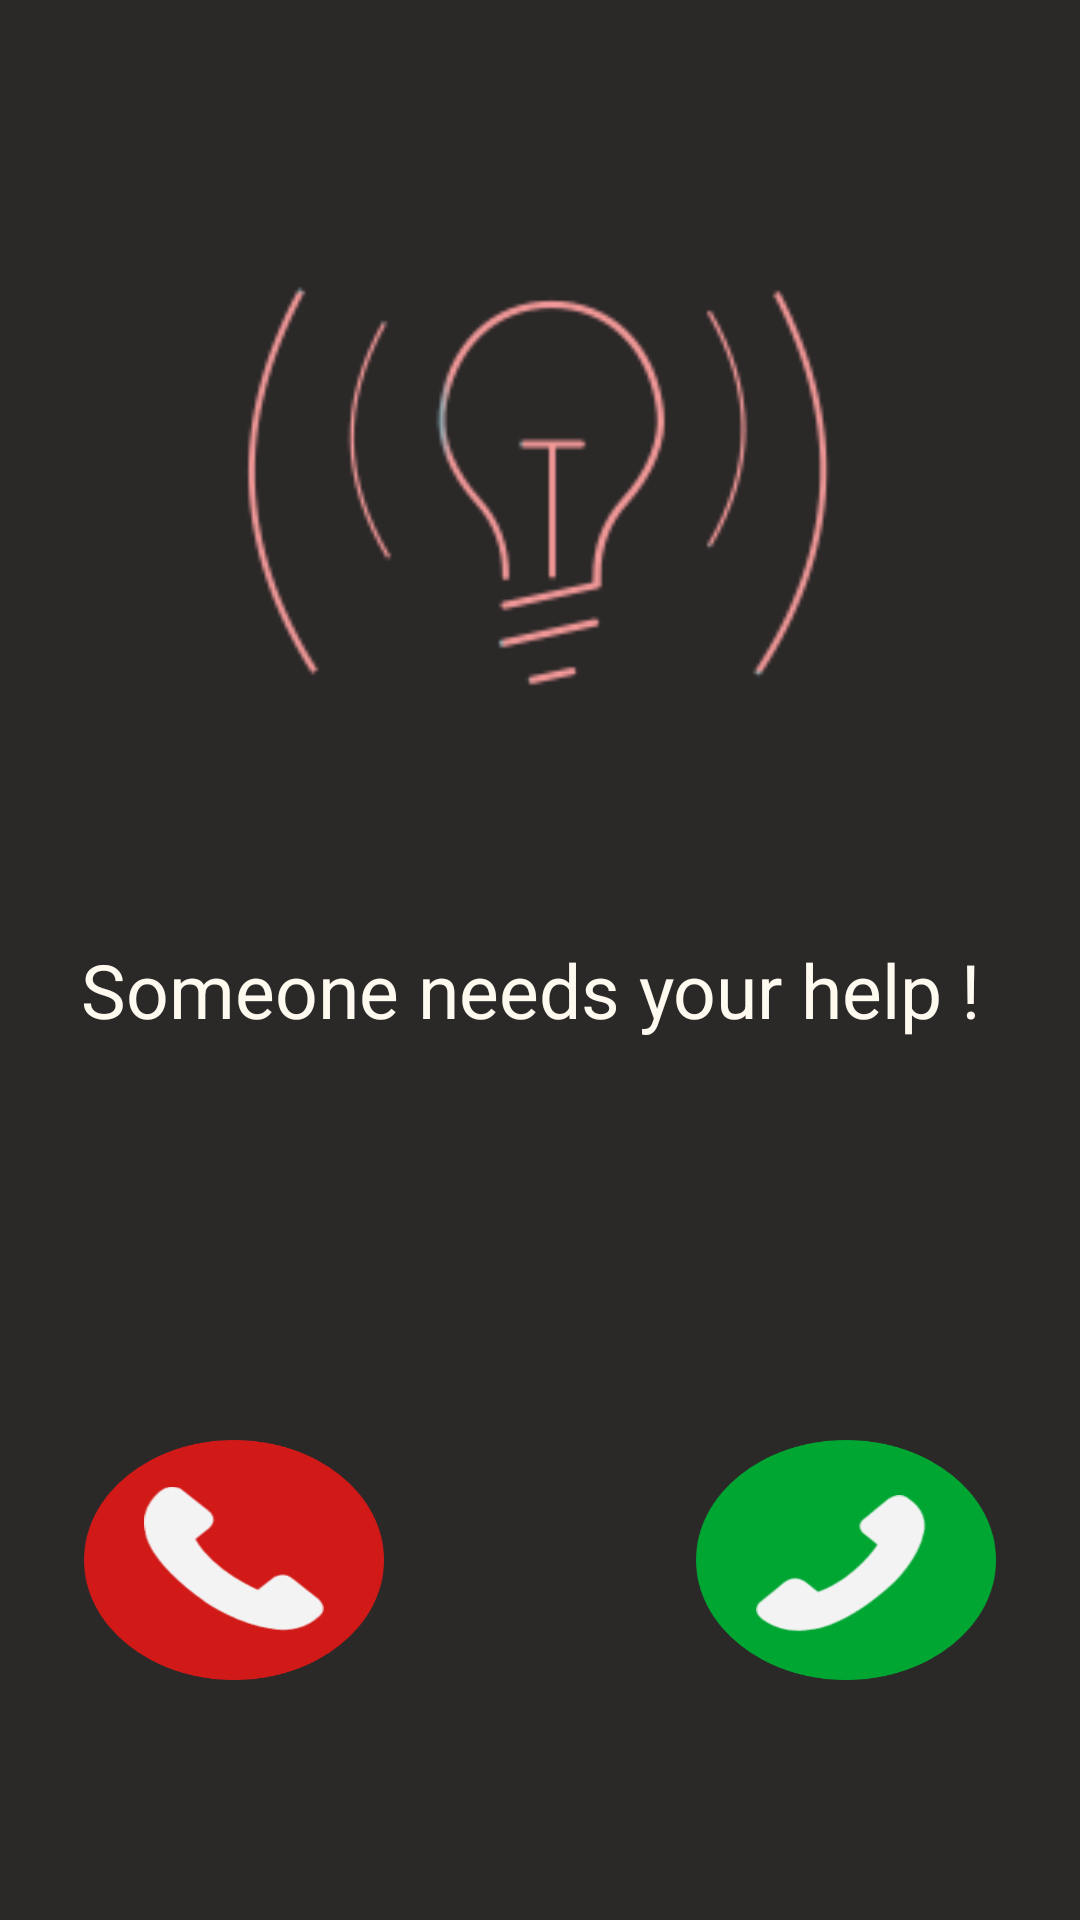

Icon bounding boxes for this 1080*1920 phone screenshot, format bbox=[x1, y1, x2, y2]:
close call: bbox=[84, 1440, 384, 1680]
make call: bbox=[696, 1440, 996, 1680]
